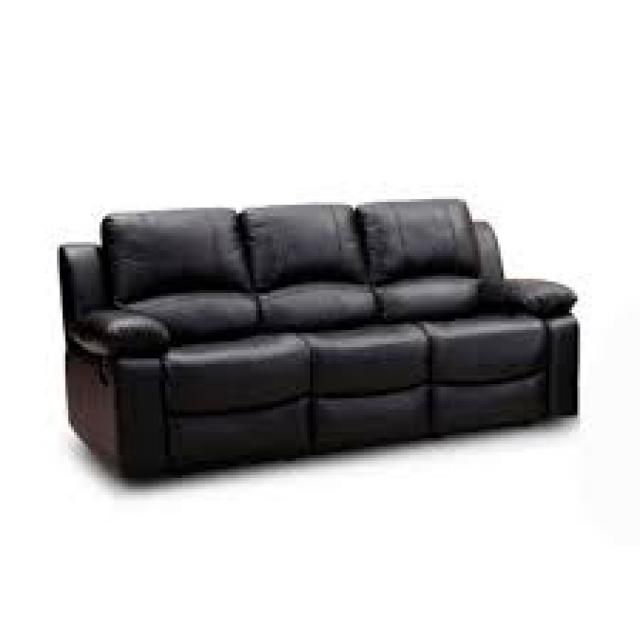Sofa: (38, 154, 615, 518)
